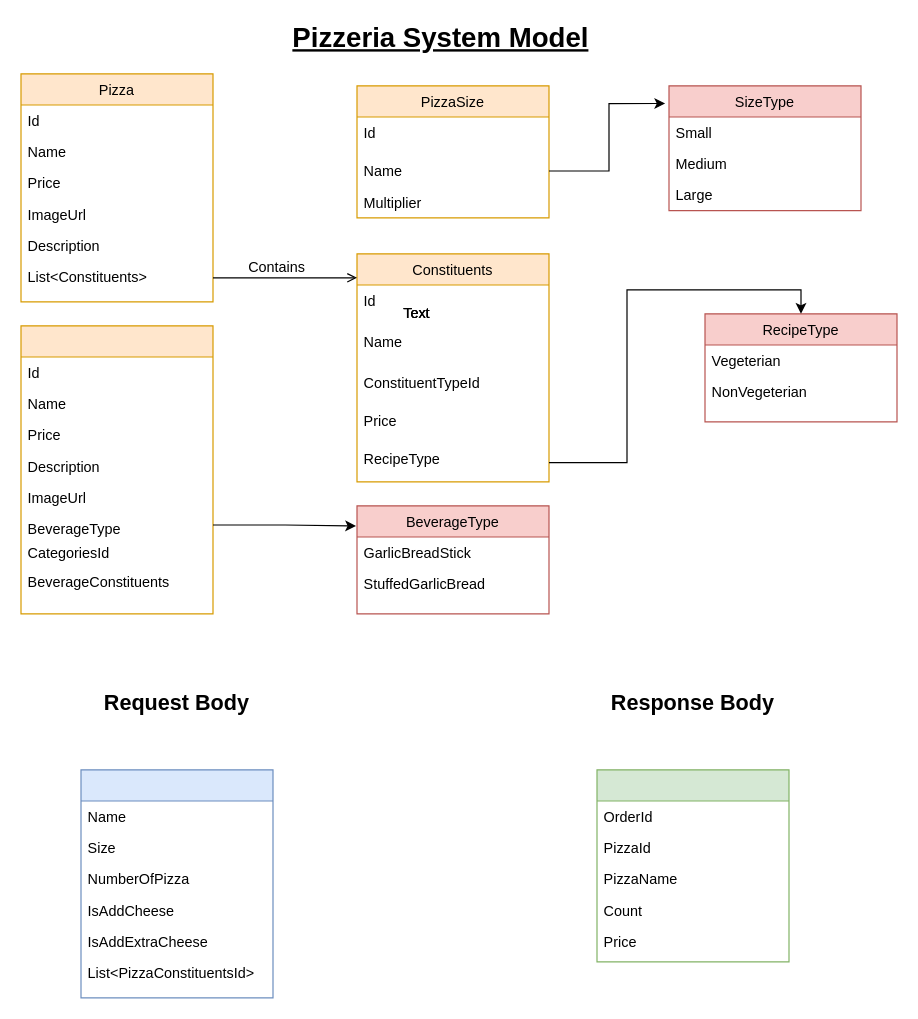
The diagram is 918 pixels wide and 1019 high, and some of its shapes have lost their labels. The shapes that lost their labels are listed below. From the top down, each one's box as (x1, y1, x2, y2) in pixels, then its label:
(20, 325, 213, 614): SideBeverages
(80, 769, 273, 998): PizzaOrderRequest
(596, 769, 789, 962): PizzaOrderResponse
